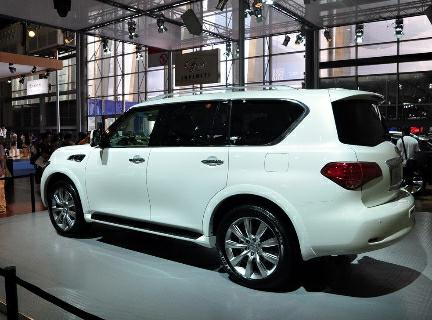英菲尼迪-QX: (34, 82, 421, 282)
